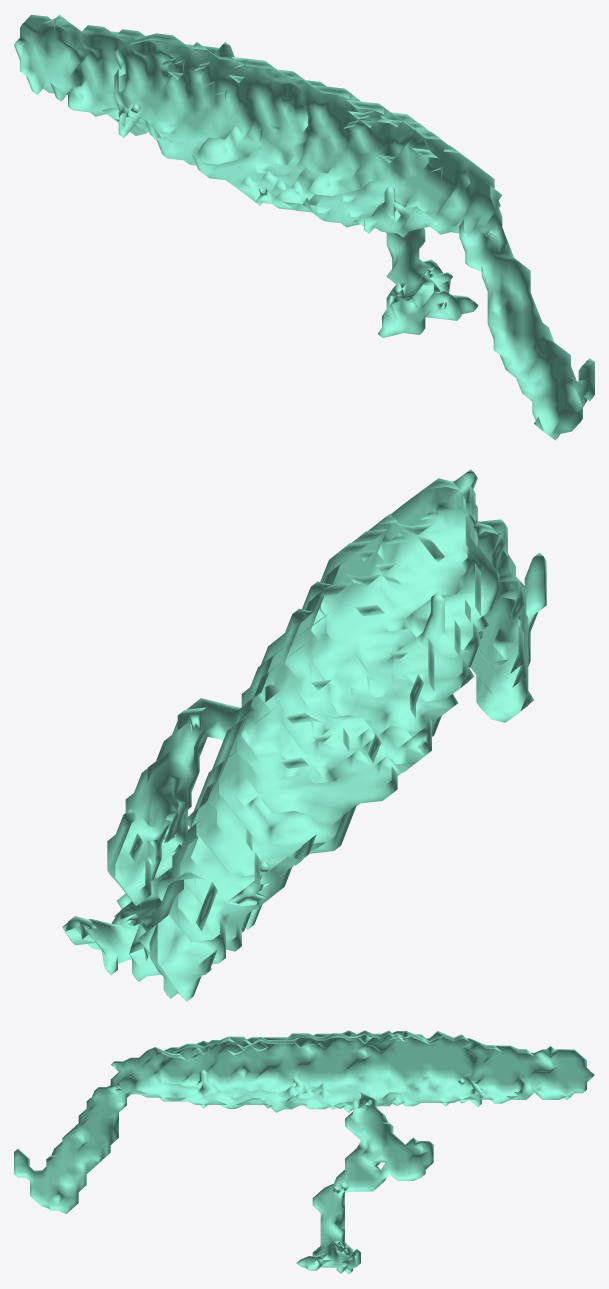
File: osteocyte_49.glb
3 views of the same model, one above another, from view 1: azimuth 30°, elevation 25°; view 2: azimuth 150°, elevation 25°; view 3: azimuth 270°, elevation 25° (orthographic). The views are drawn at different scales.
Parts seen in each view (by area): view 1: osteocyte_49; view 2: osteocyte_49; view 3: osteocyte_49.
Part boxes in pixels (bbox=[...]): osteocyte_49: bbox=[14, 14, 594, 440]; osteocyte_49: bbox=[62, 469, 546, 1001]; osteocyte_49: bbox=[14, 1030, 594, 1274].
Bounding box in the file's own units: 11.18 × 12.07 × 32.19.
